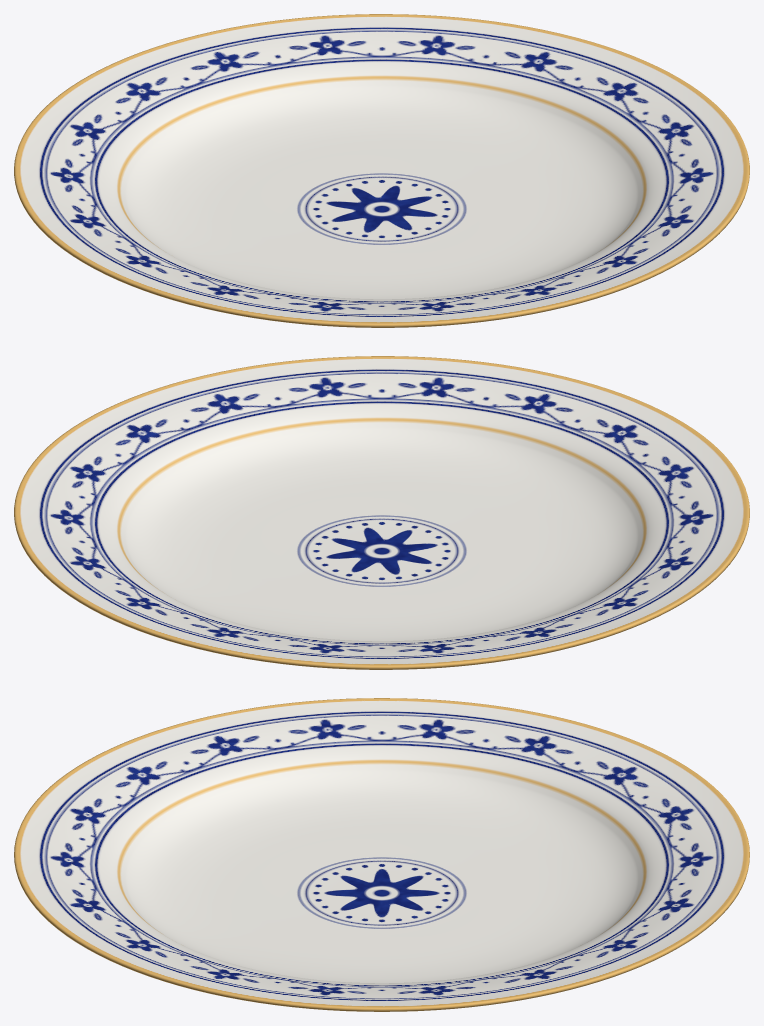
The model's file is dinner-plate.glb.
3 views of the same model, one above another, from view 1: azimuth 30°, elevation 25°; view 2: azimuth 150°, elevation 25°; view 3: azimuth 270°, elevation 25° (orthographic).
Visible parts, largest first — view 1: dinner-plate; view 2: dinner-plate; view 3: dinner-plate.
Part boxes in pixels (bbox=[...]): dinner-plate: bbox=[14, 14, 749, 327]; dinner-plate: bbox=[14, 356, 749, 669]; dinner-plate: bbox=[14, 698, 749, 1011].
Size of the model in its own units: 0.2707 by 0.0238 by 0.2707.
Materials: 1 (1 with a texture image).
